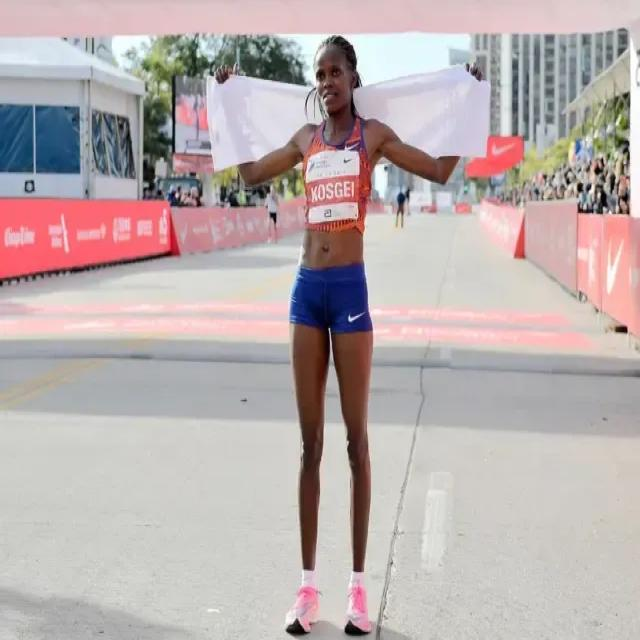nike: (344, 300, 373, 332), (340, 153, 355, 167)
